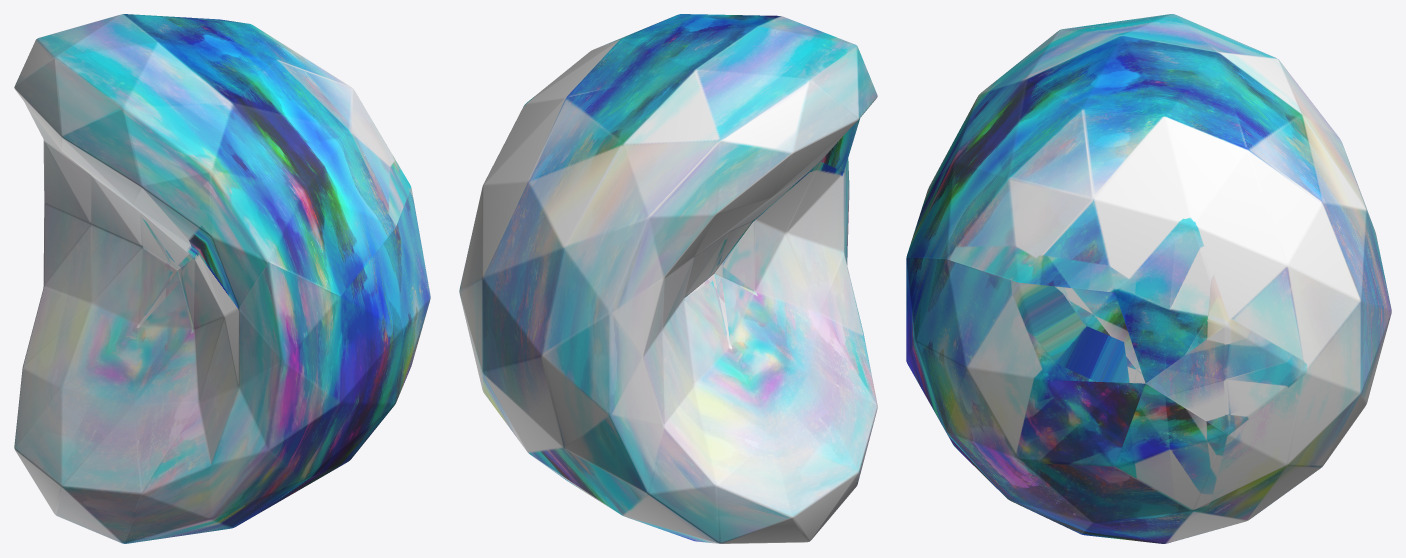
The model's file is Jewelry Type 9.glb.
3 renders of one model, left to right at view 1: azimuth 30°, elevation 25°; view 2: azimuth 150°, elevation 25°; view 3: azimuth 270°, elevation 25°, orthographic. The views are drawn at different scales.
Parts seen in each view (by area): view 1: Jewelry001_M_Jewelry001_0; view 2: Jewelry001_M_Jewelry001_0; view 3: Jewelry001_M_Jewelry001_0.
Part boxes in pixels (bbox=[...]): Jewelry001_M_Jewelry001_0: bbox=[14, 14, 430, 543]; Jewelry001_M_Jewelry001_0: bbox=[459, 14, 877, 543]; Jewelry001_M_Jewelry001_0: bbox=[906, 14, 1391, 543].
Bounding box in the file's own units: 0.4193 × 0.6016 × 0.5533.
1 material, 1 textured.
